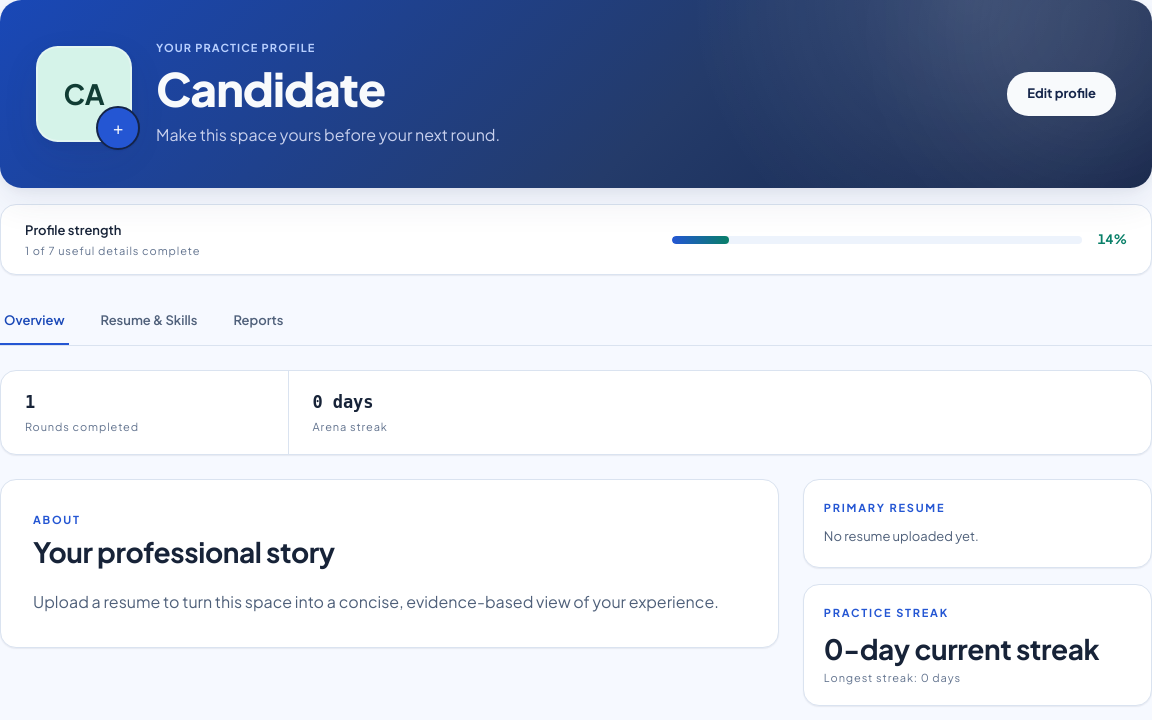
Test: ProfilePanel › separates overview, resume and skills, and reports into accessible tabs
Expected: the tab "Reports" is shown, [229,299,287,345]
Click the tab "Resume & Skills".
click(149, 322)  # box [96,299,201,345]
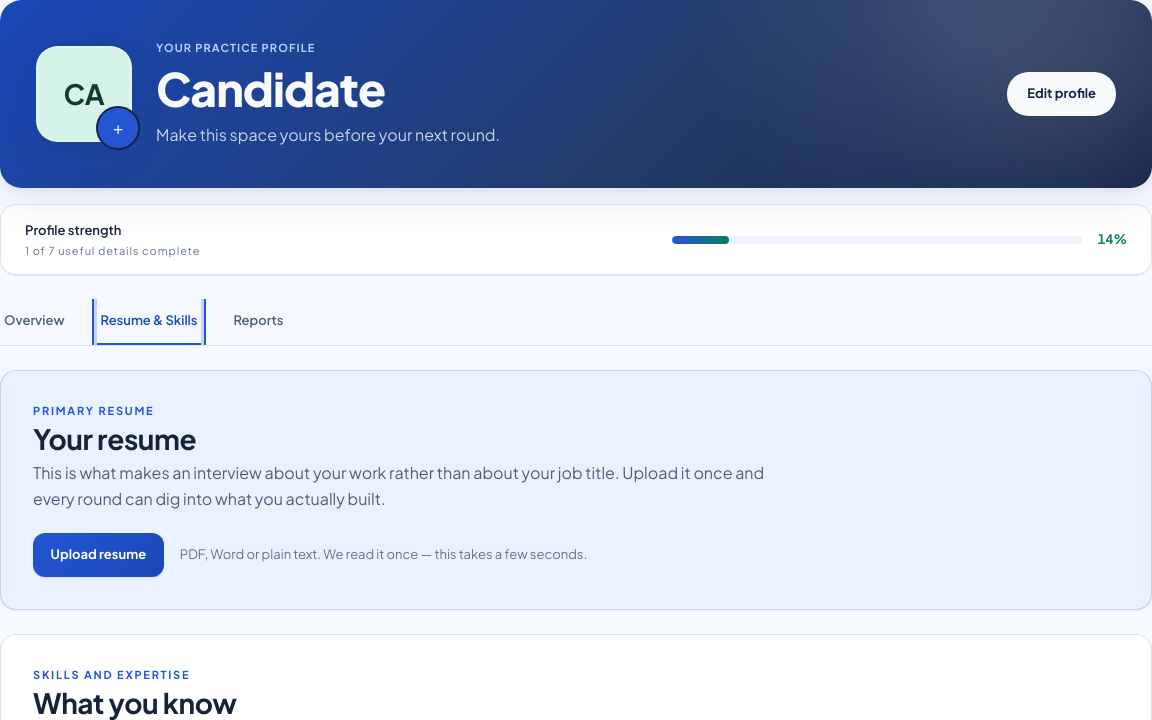
Result: the heading "Your resume" is shown at [33,421,196,456]
Result: the heading "What you know" is shown at [33,685,237,719]
Click the tab "Reports".
click(258, 322)  # box [229,299,287,345]
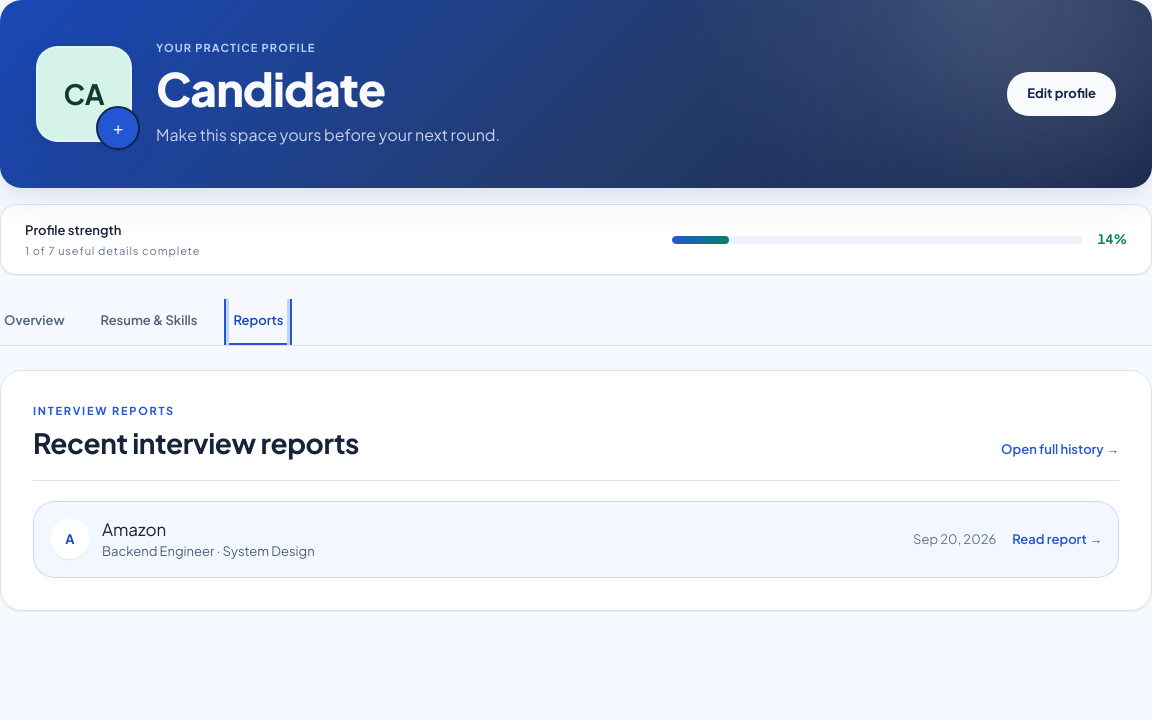
Result: the heading "Recent interview reports" is shown at [33,426,359,460]
